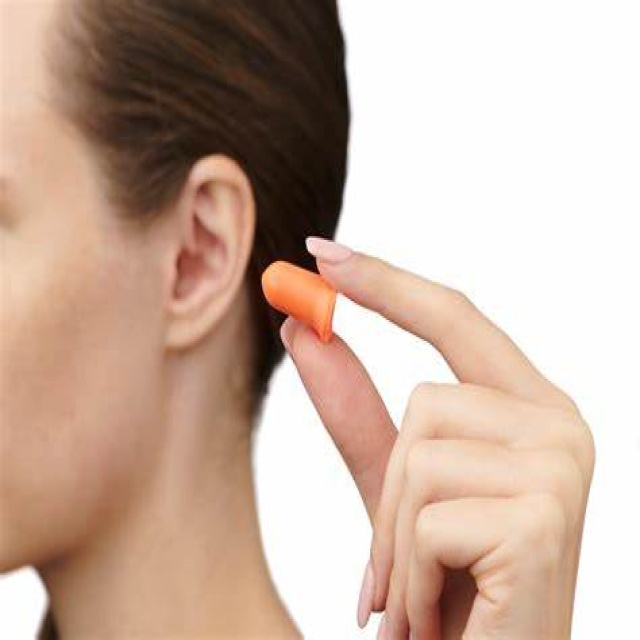Hearing_Protection: (226, 251, 333, 320)
